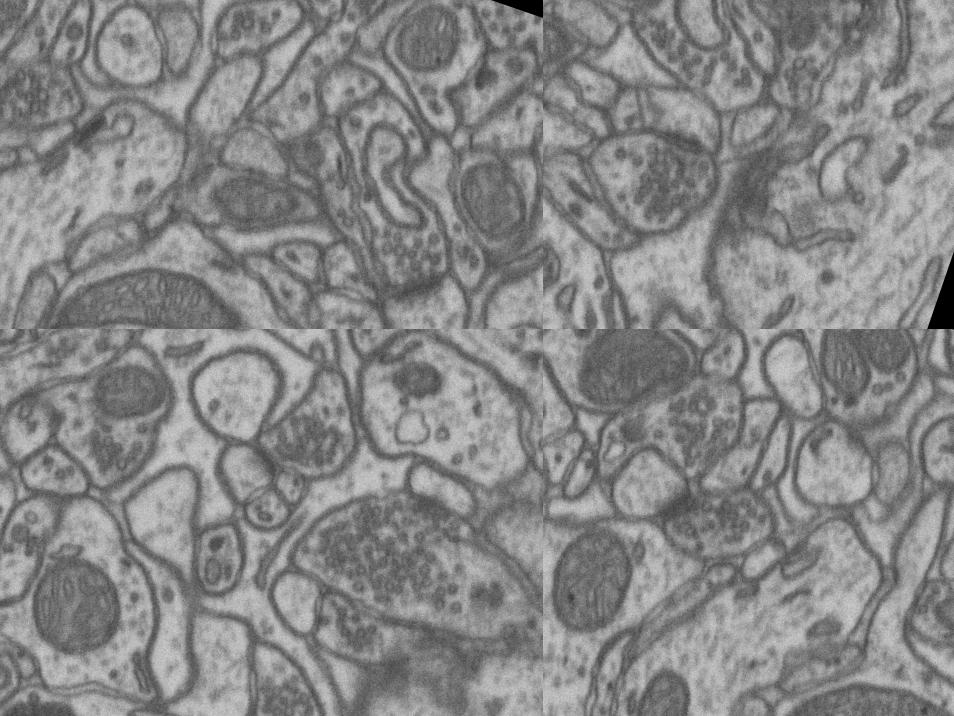mitochondria: (46, 229, 257, 329), (9, 541, 141, 673), (565, 329, 696, 427), (543, 519, 641, 646), (438, 147, 543, 254), (64, 346, 171, 444), (784, 656, 954, 716), (199, 156, 310, 246), (382, 0, 475, 86), (805, 329, 883, 403), (387, 347, 464, 421), (621, 660, 703, 716), (838, 329, 919, 381), (543, 0, 590, 86), (513, 471, 543, 600), (928, 570, 954, 655), (576, 0, 678, 18), (526, 13, 543, 40)
